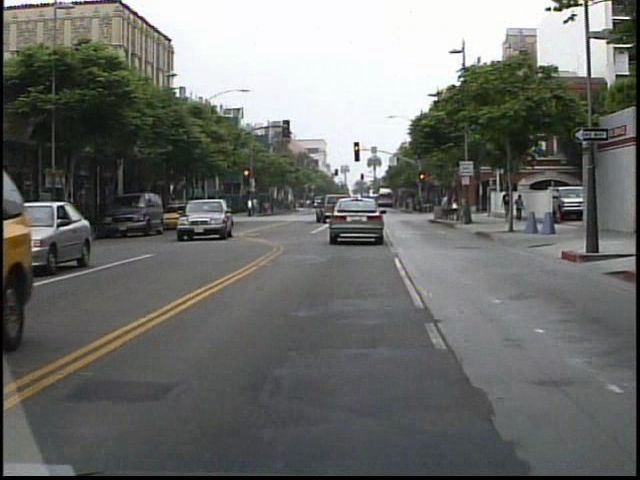person: (438, 189, 456, 221), (501, 187, 515, 226), (514, 191, 527, 225), (248, 193, 257, 219)
